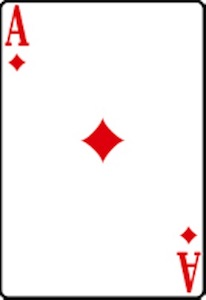AceOfDiamonds: (1, 1, 204, 299)
